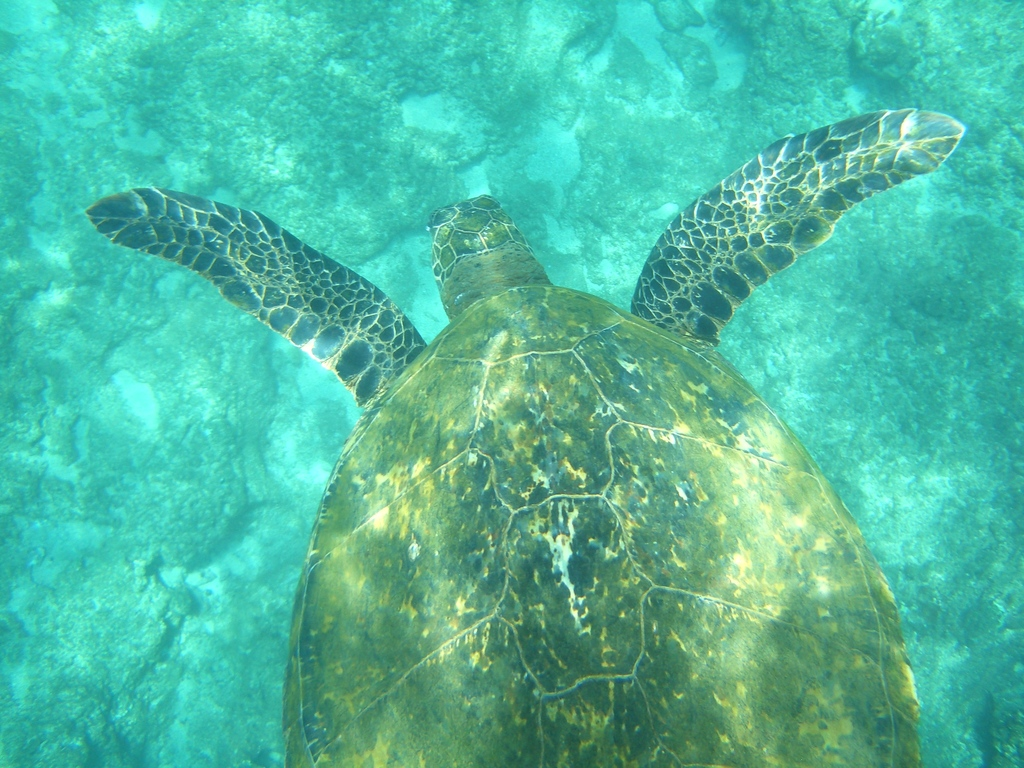Sea turtles: (88, 103, 968, 767)
